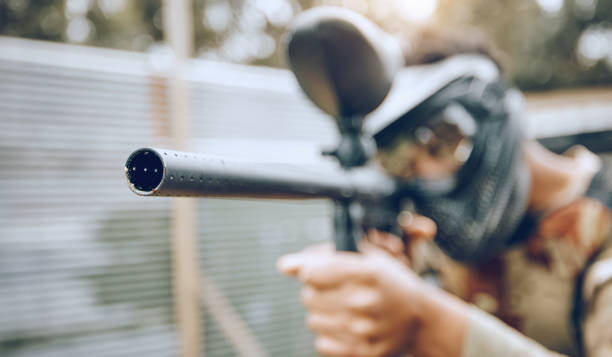gun: (125, 146, 401, 254)
